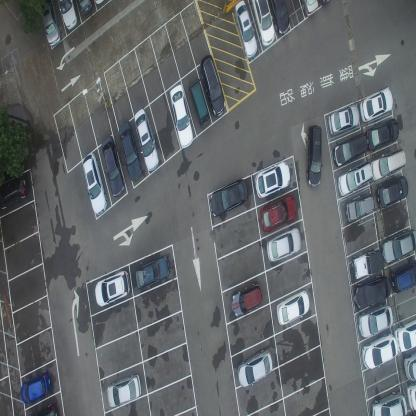car: (82, 152, 108, 218), (199, 53, 225, 117), (169, 83, 194, 149), (100, 135, 126, 198), (133, 109, 159, 172), (209, 177, 248, 217), (259, 192, 297, 233), (254, 158, 291, 200), (238, 347, 274, 389), (118, 121, 142, 182), (276, 287, 312, 327), (94, 268, 130, 308), (234, 0, 258, 58), (266, 225, 302, 263), (134, 252, 170, 290), (106, 372, 142, 409), (361, 334, 398, 370), (358, 302, 393, 339), (354, 275, 391, 309), (250, 0, 275, 49), (333, 132, 368, 167), (337, 162, 372, 196), (375, 174, 408, 210), (231, 281, 263, 318), (0, 168, 28, 210), (382, 228, 416, 262), (360, 87, 393, 122), (370, 149, 406, 181), (21, 367, 51, 405), (305, 122, 322, 188), (189, 78, 211, 129), (327, 104, 359, 136), (366, 118, 398, 150), (40, 0, 62, 46), (350, 249, 384, 278), (371, 390, 408, 415), (390, 258, 416, 293), (344, 194, 375, 223), (268, 0, 291, 37), (395, 317, 415, 352), (56, 0, 77, 30), (31, 400, 59, 416), (403, 352, 416, 382), (299, 0, 319, 18), (76, 0, 92, 17), (406, 384, 416, 410)
